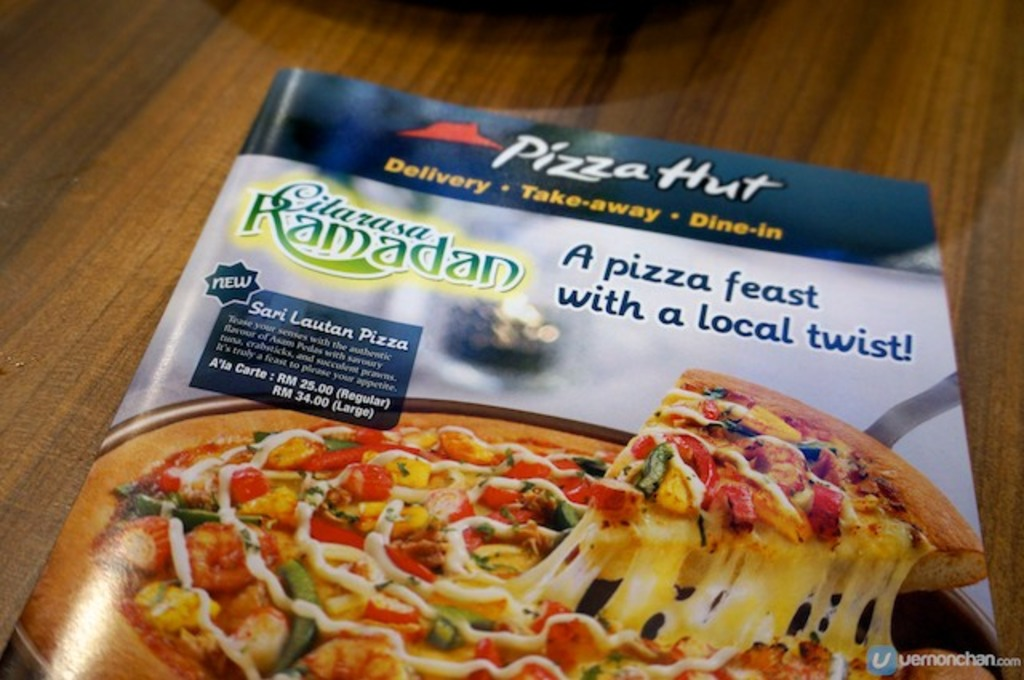Pizza: (46, 392, 952, 668)
